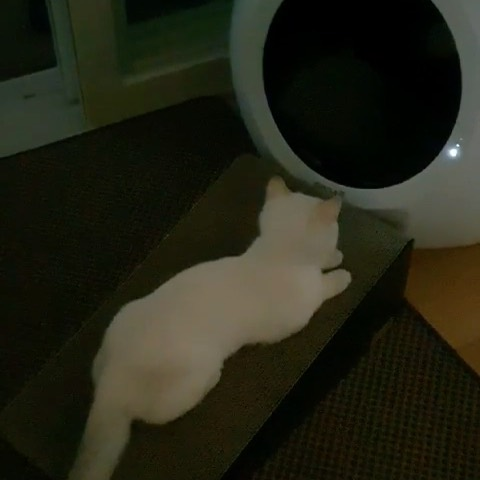cat: (250, 176, 350, 279)
